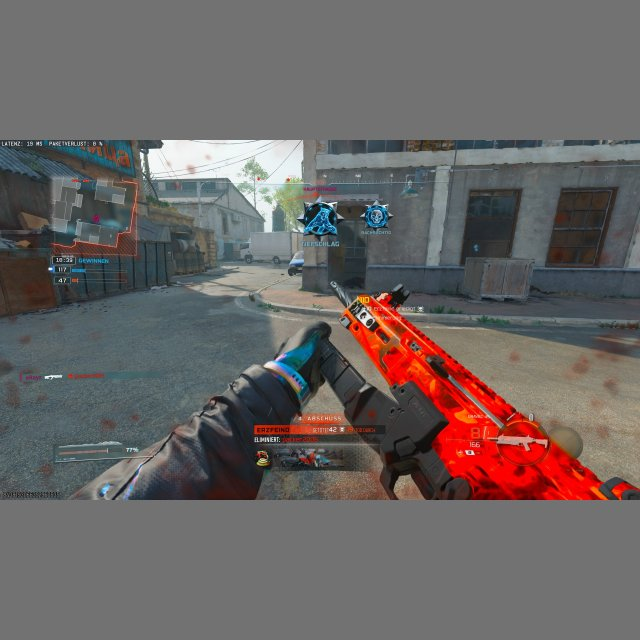player: (301, 200, 341, 236)
